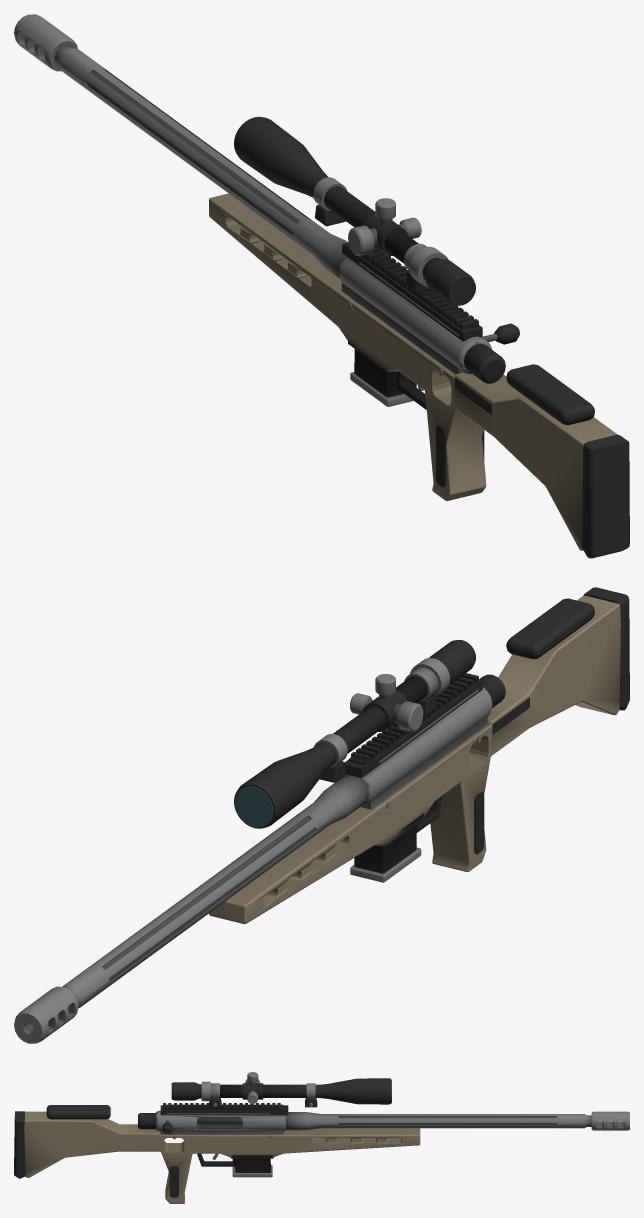
The model's file is corvid_338.glb.
3 renders of one model, top to bottom at view 1: azimuth 30°, elevation 25°; view 2: azimuth 150°, elevation 25°; view 3: azimuth 270°, elevation 25°, orthographic. The views are drawn at different scales.
Parts seen in each view (by area): view 1: Stock, Optic, Barrel, Receiver, MuzzleBrake, Magazine; view 2: Stock, Optic, Barrel, Receiver, MuzzleBrake, Magazine, OpticGlass; view 3: Stock, Barrel, Optic, Receiver, Magazine, MuzzleBrake, Bolt.
Boxes of the visible parts, <box> form: Stock: <box>209,193,629,558</box>; Optic: <box>234,116,475,305</box>; Barrel: <box>54,45,347,278</box>; Receiver: <box>339,242,505,383</box>; MuzzleBrake: <box>14,14,77,71</box>; Magazine: <box>350,349,416,406</box>; Stock: <box>209,587,629,924</box>; Optic: <box>234,640,475,828</box>; Barrel: <box>62,774,368,1008</box>; Receiver: <box>344,673,505,847</box>; MuzzleBrake: <box>14,986,78,1043</box>; Magazine: <box>350,824,421,882</box>; OpticGlass: <box>234,786,273,827</box>; Stock: <box>14,1105,420,1203</box>; Barrel: <box>286,1112,591,1130</box>; Optic: <box>171,1072,391,1107</box>; Receiver: <box>138,1103,288,1158</box>; Magazine: <box>232,1158,272,1177</box>; MuzzleBrake: <box>591,1111,629,1130</box>; Bolt: <box>197,1117,242,1123</box>.
Bounding box in the file's own units: 0.11 × 0.304 × 1.35.
